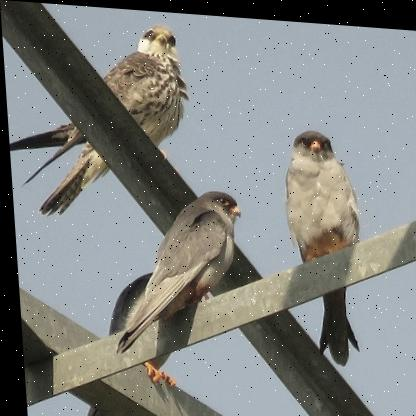Burung: (101, 181, 246, 366), (276, 116, 363, 370)
